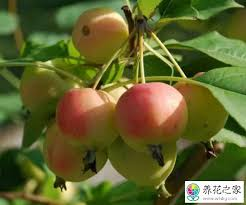1: (72, 8, 130, 62)
2: (109, 135, 175, 198), (45, 117, 105, 184), (175, 78, 229, 144), (18, 59, 76, 112)
Apple: (118, 82, 185, 152), (55, 84, 117, 153)
